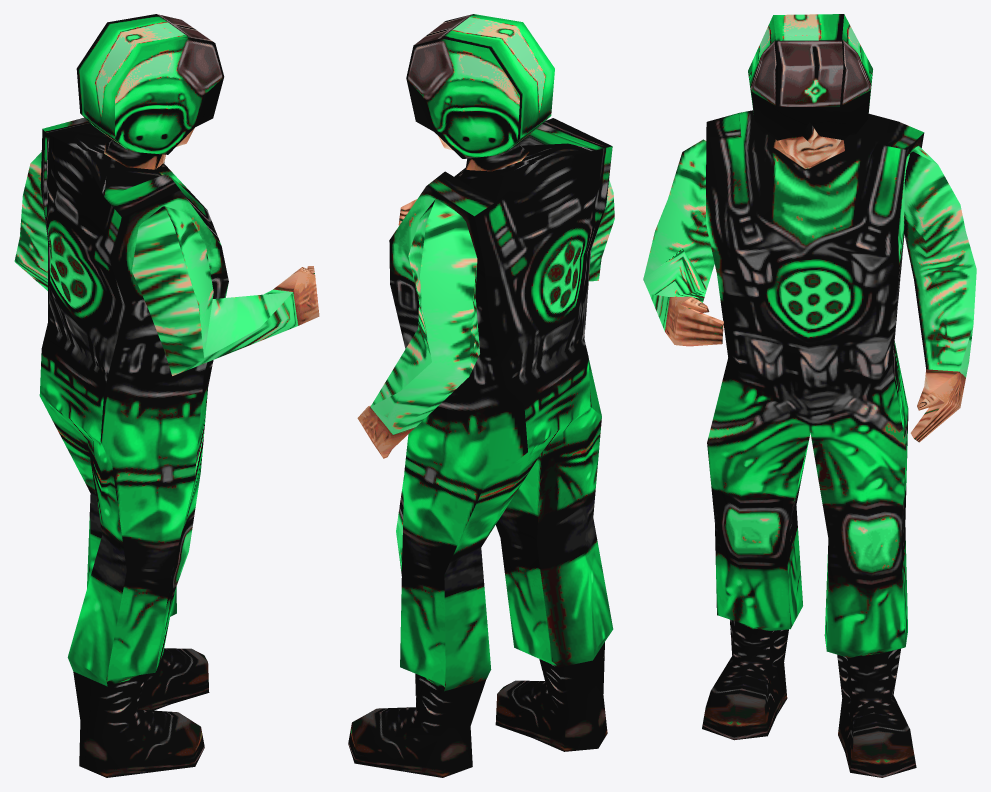
Rendered from hvyweapon2_green.glb.
3 renders of one model, left to right at view 1: azimuth 30°, elevation 25°; view 2: azimuth 150°, elevation 25°; view 3: azimuth 270°, elevation 25°, orthographic. The views are drawn at different scales.
Visible parts, largest first — view 1: hvyweapon2; view 2: hvyweapon2; view 3: hvyweapon2.
Part boxes in pixels (<box>): hvyweapon2: <box>14,14,319,777</box>; hvyweapon2: <box>348,14,614,777</box>; hvyweapon2: <box>643,14,976,777</box>.
Size of the model in its own units: 25.59 by 77.83 by 33.23.
Materials: 2 (2 with a texture image).
